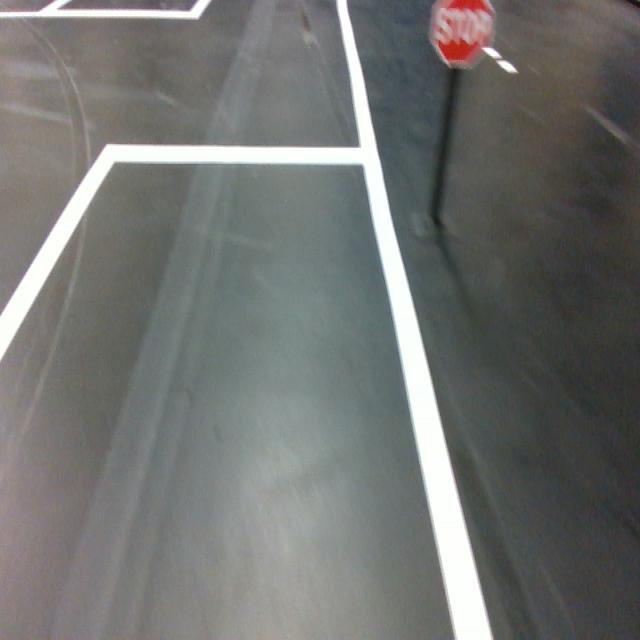stop-sign: (426, 0, 500, 71)
